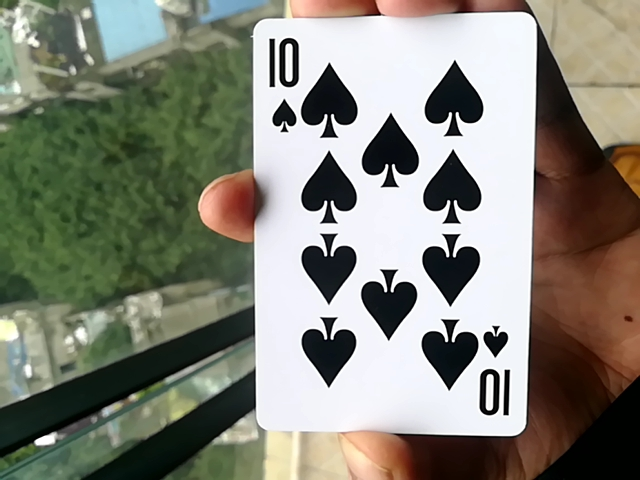ht 10: (246, 6, 538, 444)
